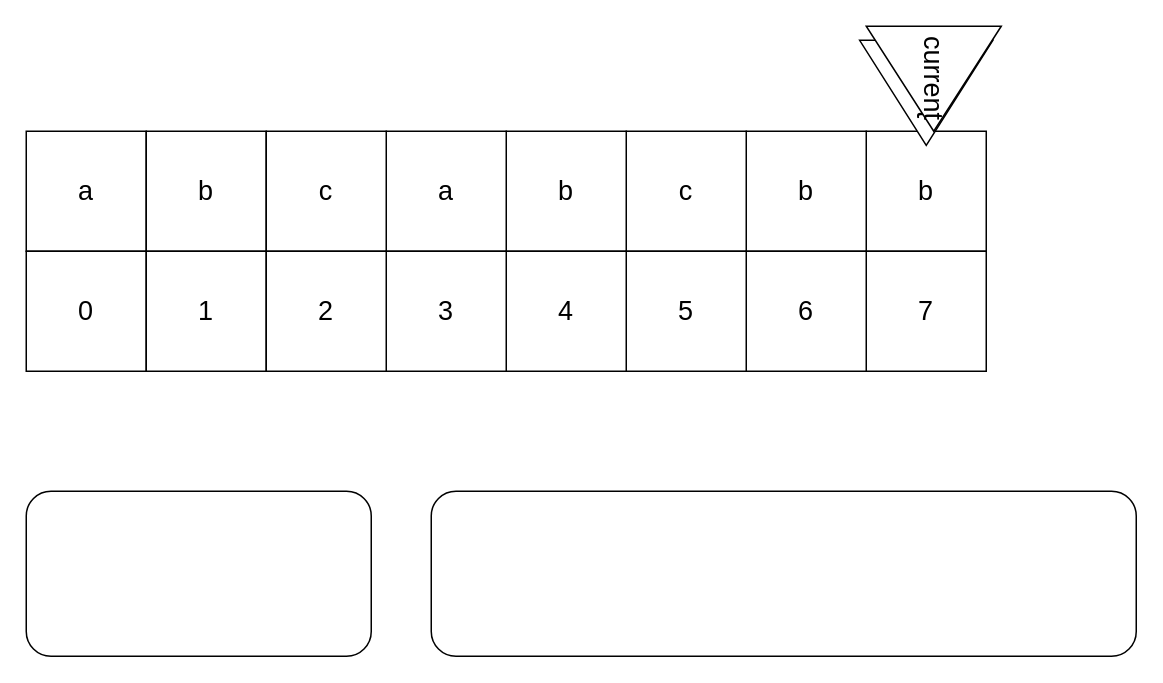
Some shapes in this 1163 by 683 pixel diagram are drawn without their labels. Here are the shapes that lost their labels. From the top down, the centre of each, then its label:
At point (198, 573): "Map: {a: 3, b: 7, c: 5}".
At point (783, 573): "start: 5 maxLength: 3".
